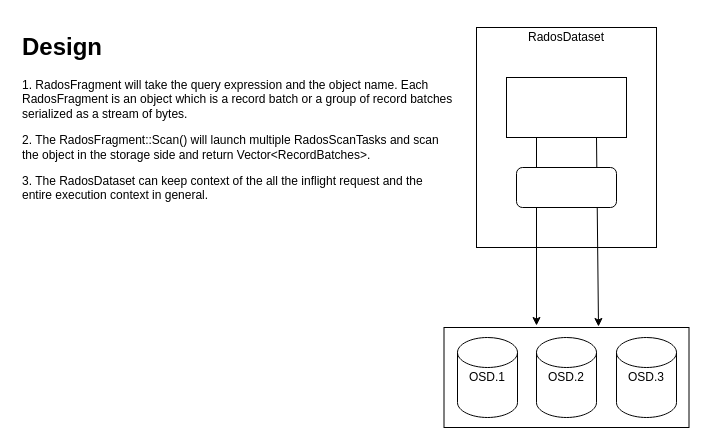
Image size: 706x445. Some labels were removed from this diagram. The centre of each missing label's shape, as x and y in pixels:
RadosFragment: (x=566, y=107)
RadosScanTask: (x=566, y=187)
